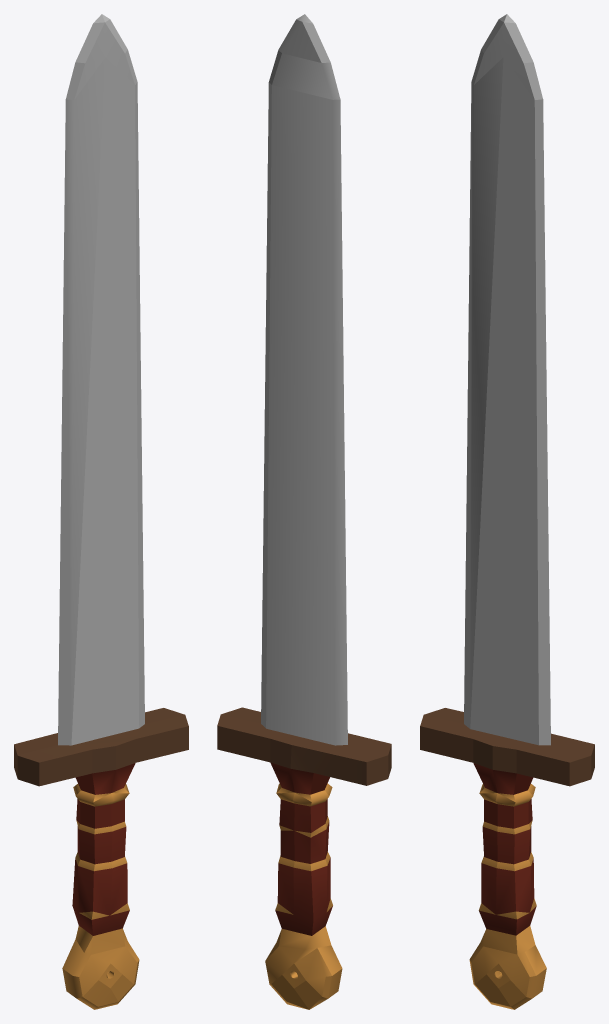
The model's file is SwardLightning.fbx.
The picture shows the model from 3 angles, left to right: view 1: azimuth 30°, elevation 25°; view 2: azimuth 150°, elevation 25°; view 3: azimuth 330°, elevation 25°; orthographic projection.
Parts seen in each view (by area): view 1: SwardLightning_LOD0; view 2: SwardLightning_LOD0; view 3: SwardLightning_LOD0.
Part boxes in pixels (x1,y1,x2,y2): SwardLightning_LOD0: (14, 14, 188, 1009); SwardLightning_LOD0: (217, 14, 391, 1009); SwardLightning_LOD0: (420, 14, 594, 1009).
Size of what is drawn, in the model's own units: 77.11 by 435 by 22.86.
